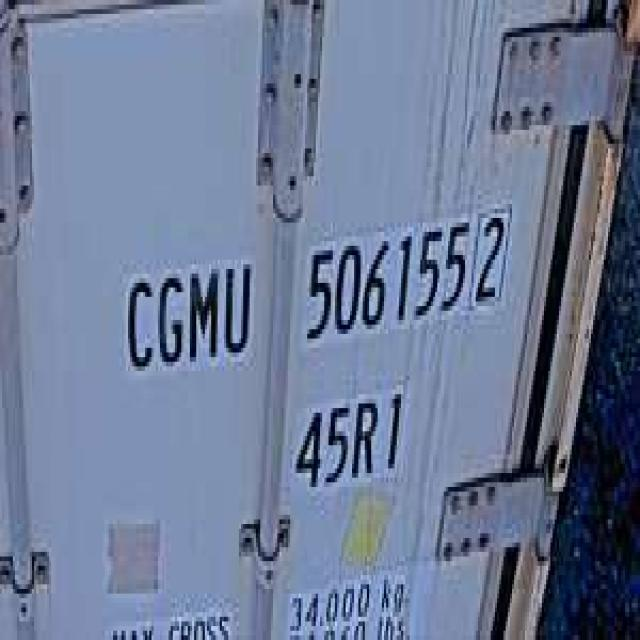dv: (469, 195, 512, 315)
owner: (117, 246, 256, 376)
serial: (298, 204, 471, 343)
size: (288, 376, 407, 496)
